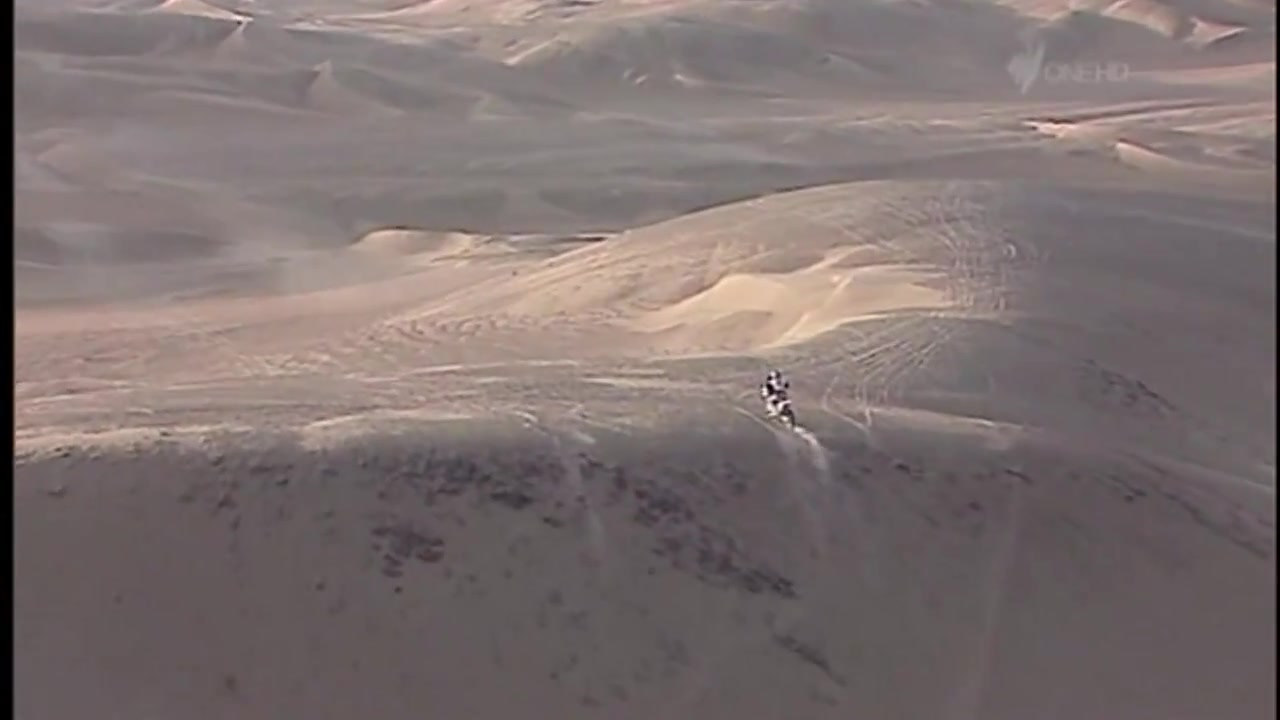motorbike: (759, 383, 799, 430)
